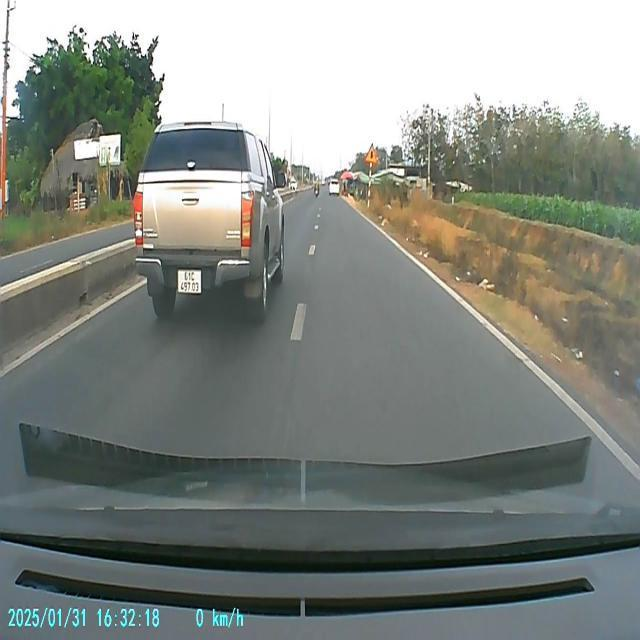207-giao-nhau-voi-duong-khong-uu-tien: (364, 141, 378, 165)
